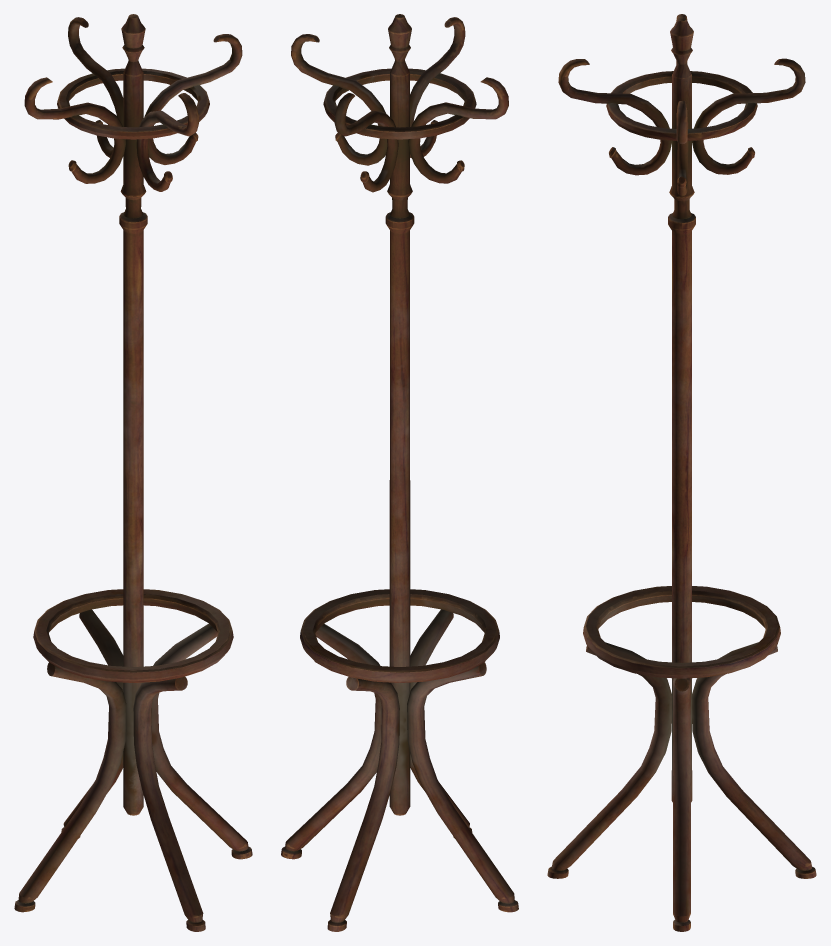
The model's file is hanger.obj.
The picture shows the model from 3 angles, left to right: view 1: azimuth 30°, elevation 25°; view 2: azimuth 150°, elevation 25°; view 3: azimuth 270°, elevation 25°; orthographic projection.
Parts seen in each view (by area): view 1: obj1; view 2: obj1; view 3: obj1.
Boxes of the visible parts, left/top/right/bottom form: obj1: left=14, top=14, right=252, bottom=931; obj1: left=281, top=14, right=518, bottom=931; obj1: left=547, top=14, right=816, bottom=931.
Bounding box in the file's own units: 0.5911 × 2.08 × 0.5911.
1 material, 1 textured.
